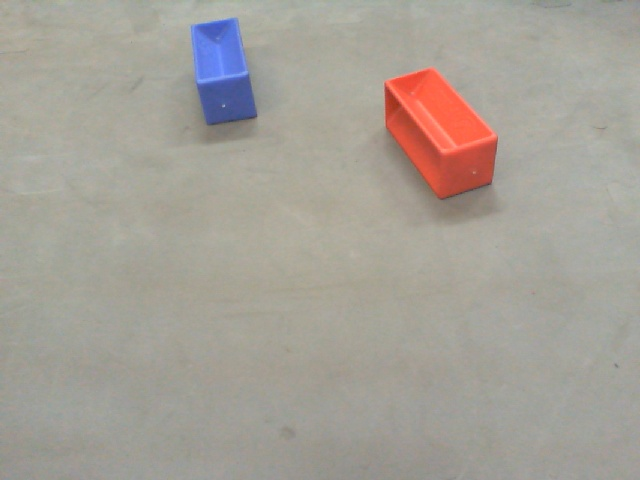BlueSample: (189, 16, 257, 131)
RedSample: (378, 64, 498, 201)
